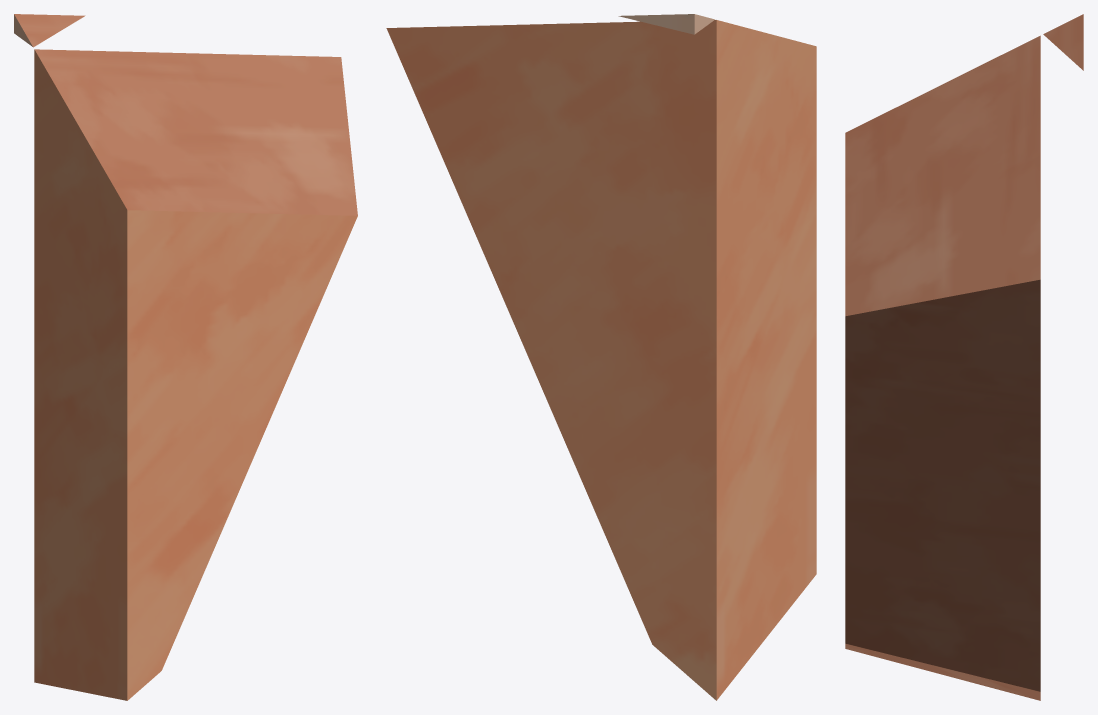
The model's file is wall2_door_s07.fbx.
The picture shows the model from 3 angles, left to right: view 1: azimuth 30°, elevation 25°; view 2: azimuth 150°, elevation 25°; view 3: azimuth 270°, elevation 25°; orthographic projection. The views are drawn at different scales.
Parts seen in each view (by area): view 1: wall2_door_s07; view 2: wall2_door_s07; view 3: wall2_door_s07.
Boxes of the visible parts, x1,y1,x2,y2 form: wall2_door_s07: (14,14,357,700); wall2_door_s07: (386,14,816,700); wall2_door_s07: (845,14,1083,700).
Bounding box in the file's own units: 1.9 × 3.88 × 1.22.
